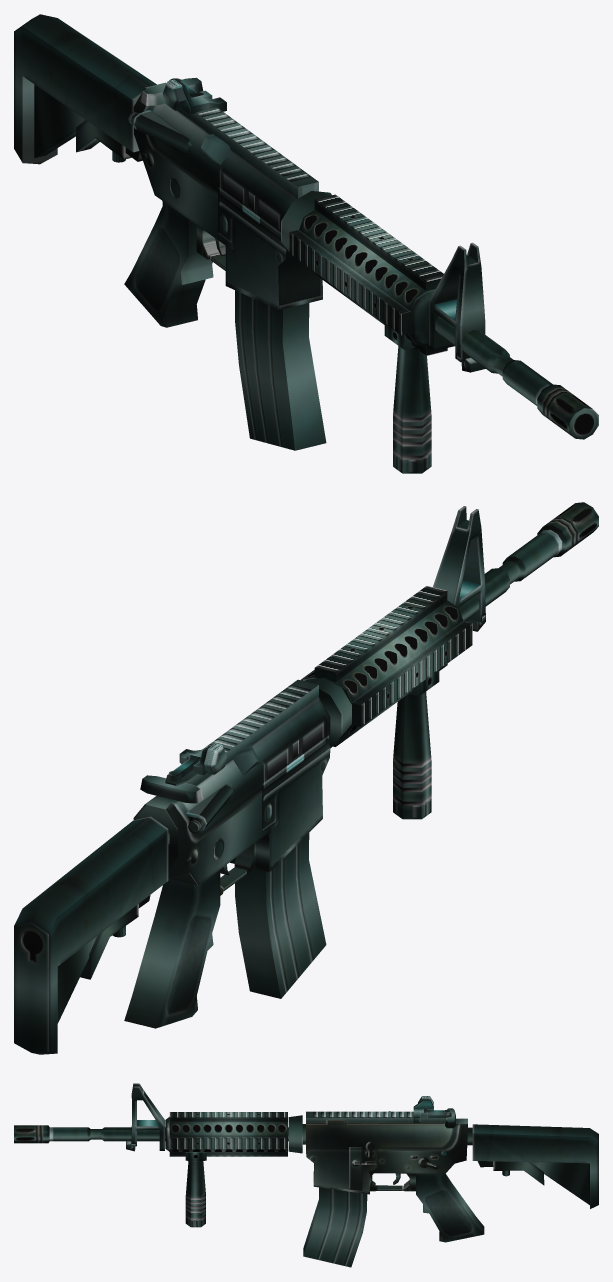
The picture shows the model from 3 angles, top to bottom: view 1: azimuth 30°, elevation 25°; view 2: azimuth 150°, elevation 25°; view 3: azimuth 270°, elevation 25°; orthographic projection. The views are drawn at different scales.
Parts seen in each view (by area): view 1: mqo_mesh; view 2: mqo_mesh; view 3: mqo_mesh.
Part boxes in pixels (x1,y1,x2,y2): mqo_mesh: [14, 14, 598, 473]; mqo_mesh: [14, 502, 598, 1054]; mqo_mesh: [14, 1083, 598, 1267].
Size of the model in its own units: 46.01 by 205 by 609.
